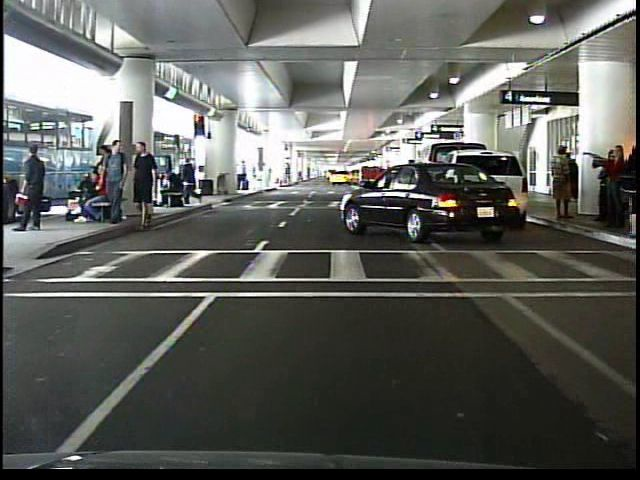person: (20, 139, 53, 237), (550, 145, 575, 224), (181, 156, 207, 209), (159, 163, 188, 209)
